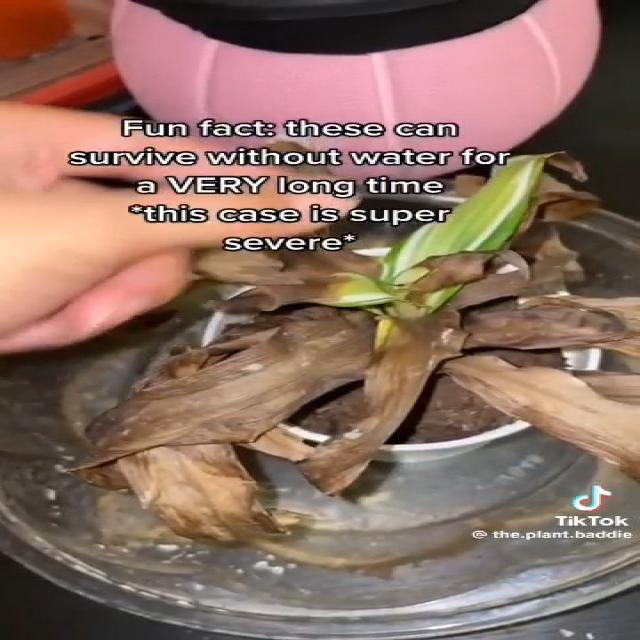lisc_suchy: (73, 304, 383, 548), (300, 311, 464, 496), (436, 355, 640, 473), (197, 249, 402, 311), (512, 154, 599, 293), (459, 295, 640, 361), (402, 250, 532, 314)
roslina_sucha: (85, 151, 640, 547)
